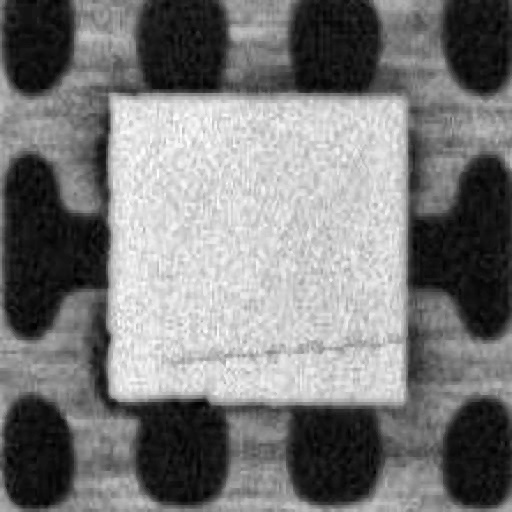DIE_CRACK: (240, 227, 512, 240)
